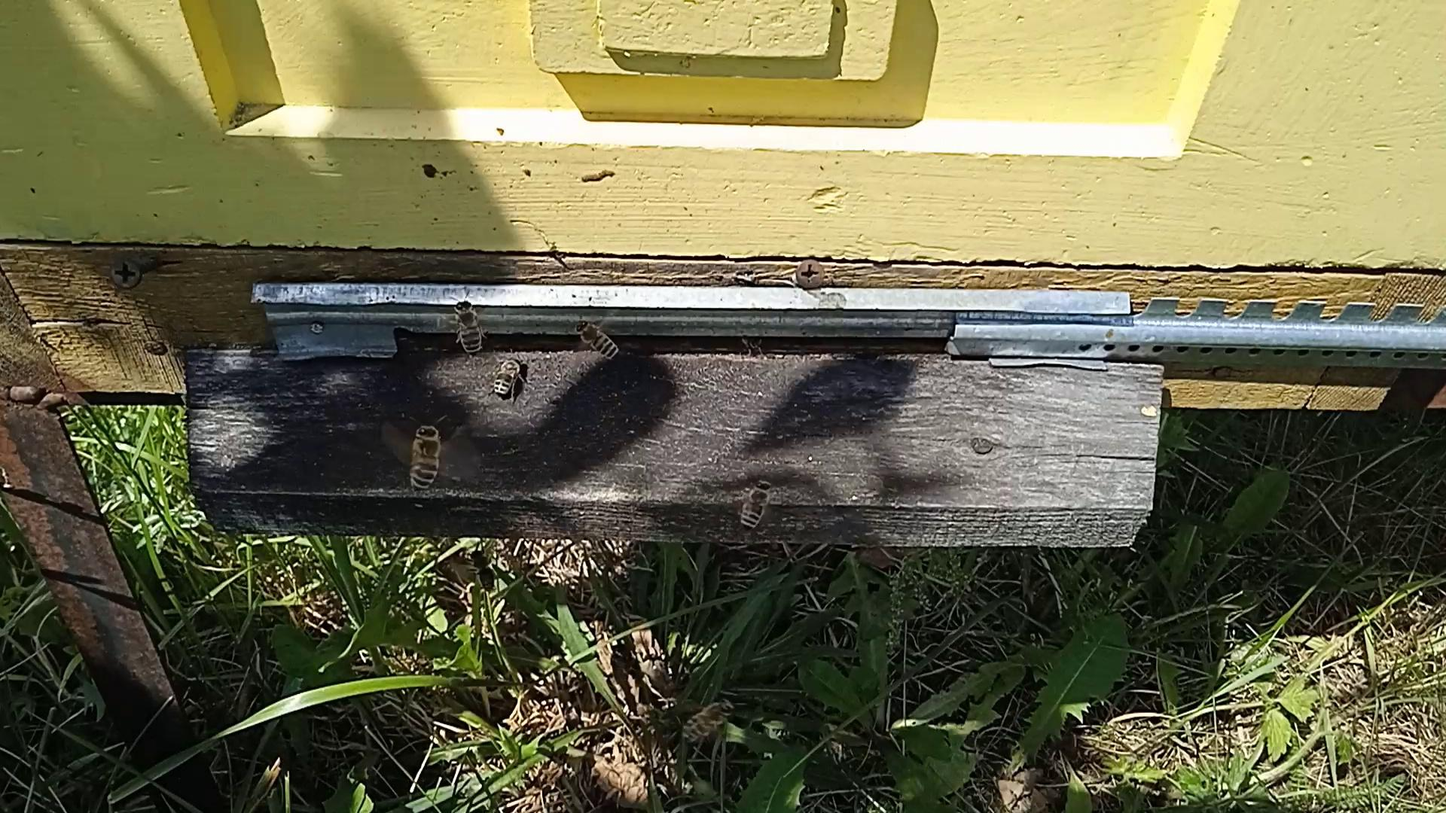worker-bee: (407, 422, 446, 491), (682, 697, 737, 738), (452, 299, 484, 355), (576, 320, 621, 359), (738, 479, 773, 529), (491, 355, 523, 398), (471, 549, 493, 592), (741, 336, 764, 354)
